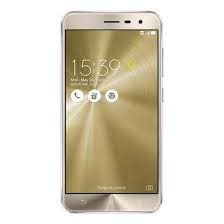asus: (58, 6, 165, 217)
